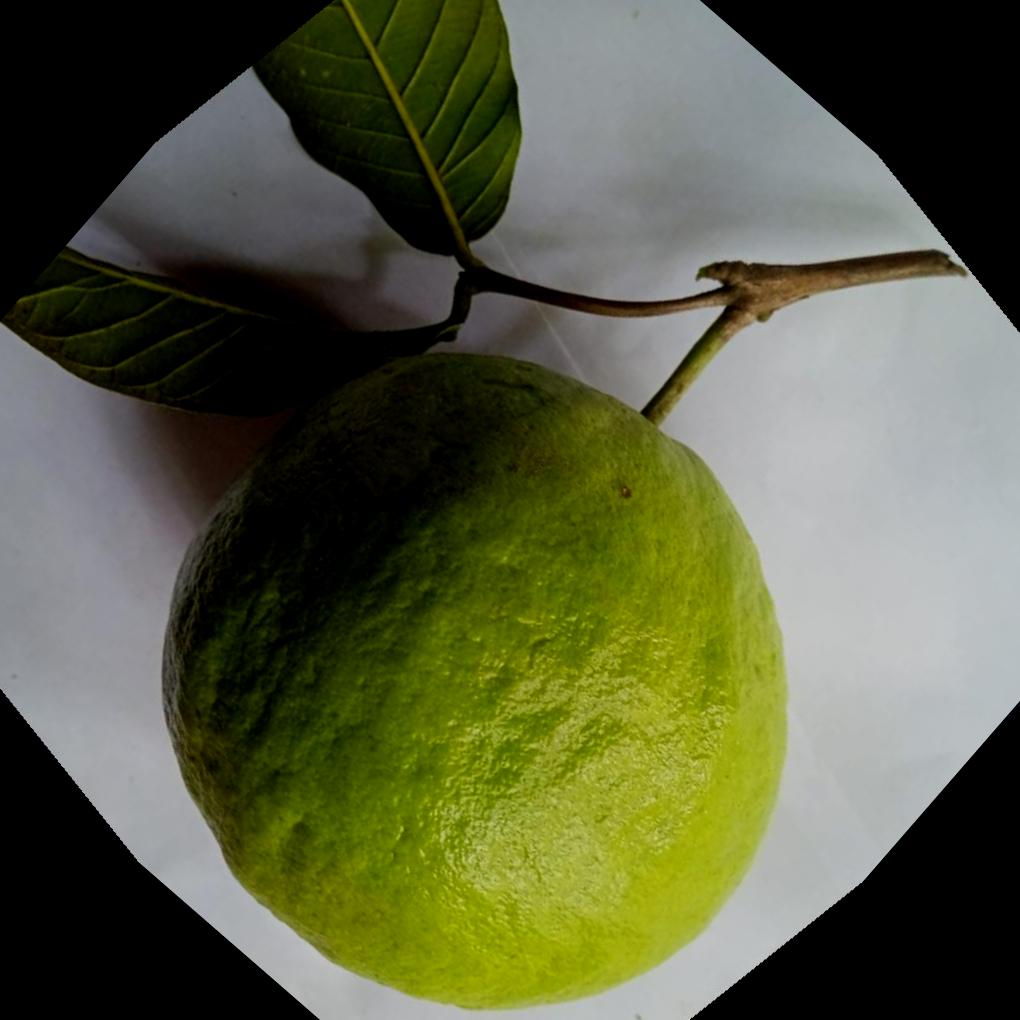FreshGuava: (1, 244, 793, 1011), (2, 246, 793, 1011)
